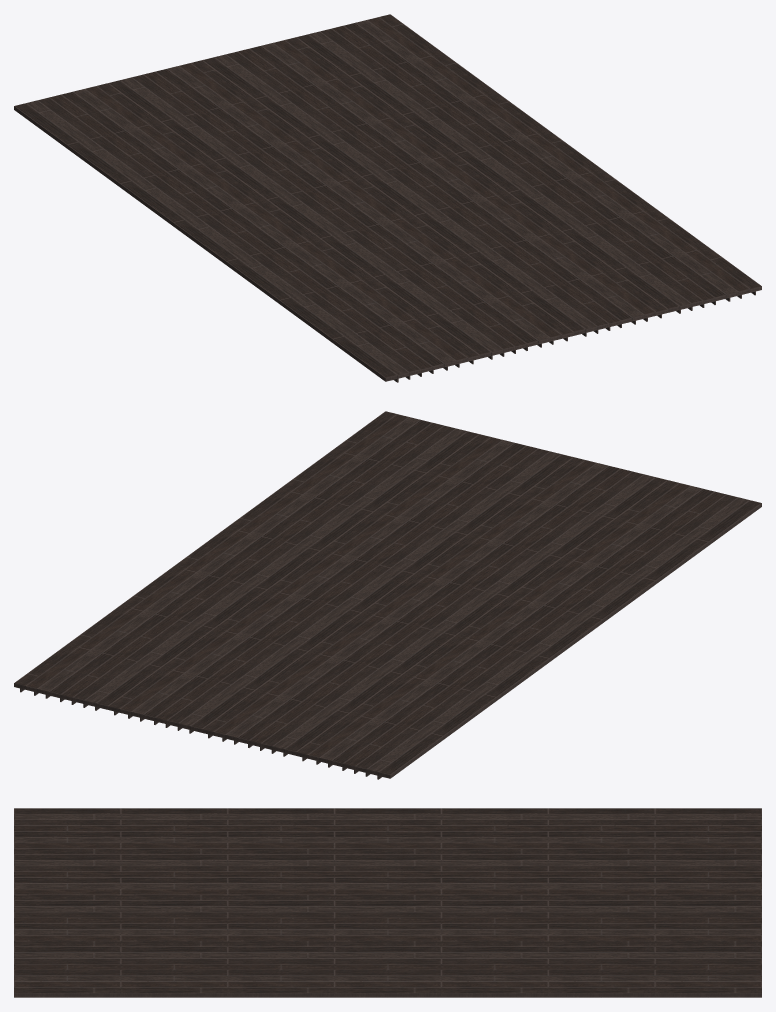
File: 4-3_Floor.fbx
The picture shows the model from 3 angles, top to bottom: view 1: azimuth 30°, elevation 25°; view 2: azimuth 150°, elevation 25°; view 3: azimuth 270°, elevation 25°; orthographic projection.
Parts seen in each view (by area): view 1: _Combined Mesh [4-2_Floor]; view 2: _Combined Mesh [4-2_Floor]; view 3: _Combined Mesh [4-2_Floor].
Boxes of the visible parts, x1,y1,x2,y2 form: _Combined Mesh [4-2_Floor]: (14, 14, 761, 382); _Combined Mesh [4-2_Floor]: (14, 411, 761, 779); _Combined Mesh [4-2_Floor]: (14, 808, 761, 997).
Bounding box in the file's own units: 5.2 × 0.1 × 8.9.
